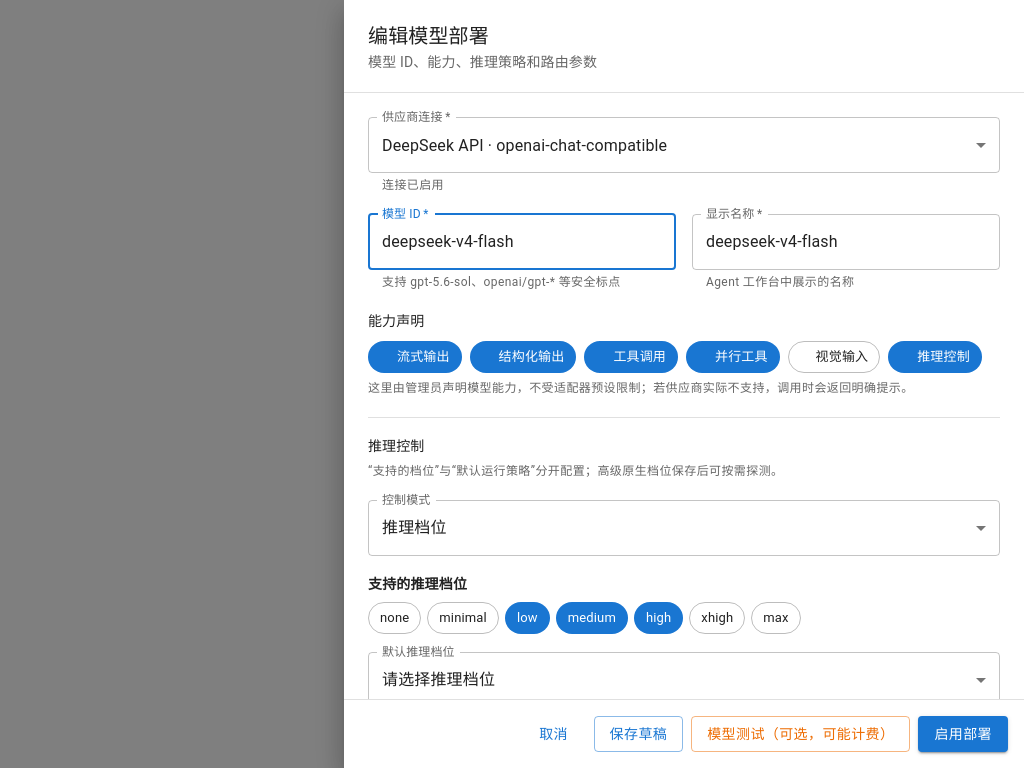
it: DeploymentEditorDrawer › 未保存修改存在时阻断模型测试和启用，避免发布旧配置
Replace the text in the field labelled "显示名称" with "尚未保存的新名称" at (846, 242), box [692,214,1000,270]
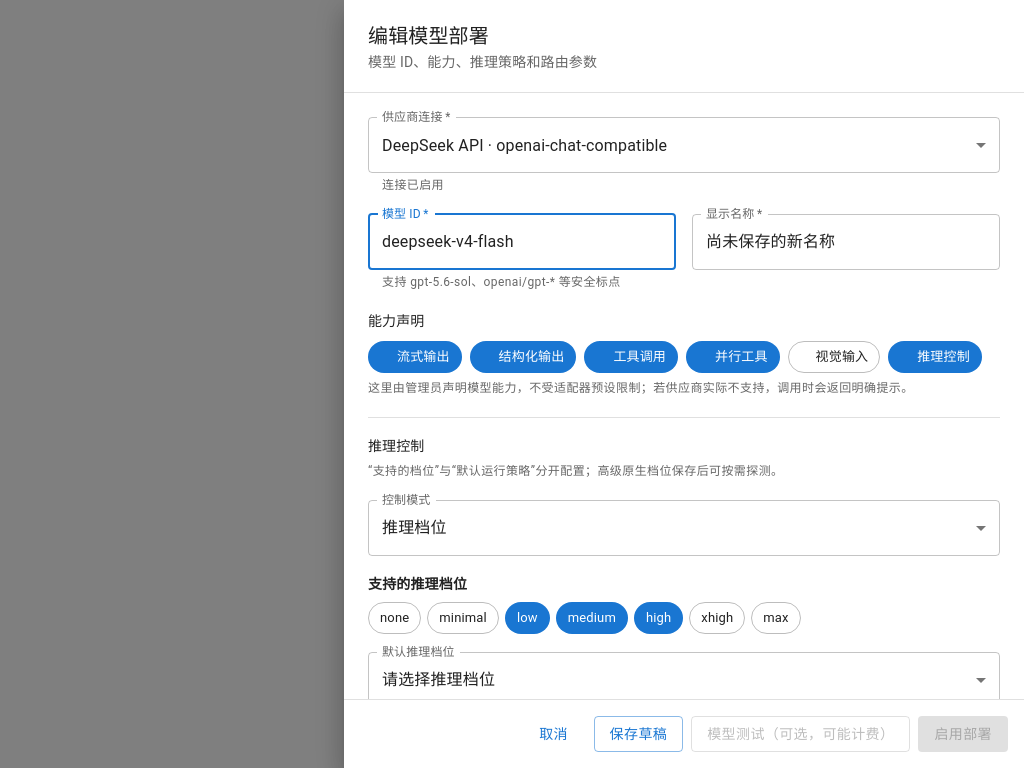
Expected: the button "模型测试（可选，可能计费）" is disabled, [691,716,910,752]
Expected: the button "启用部署" is disabled, [918,716,1008,752]
